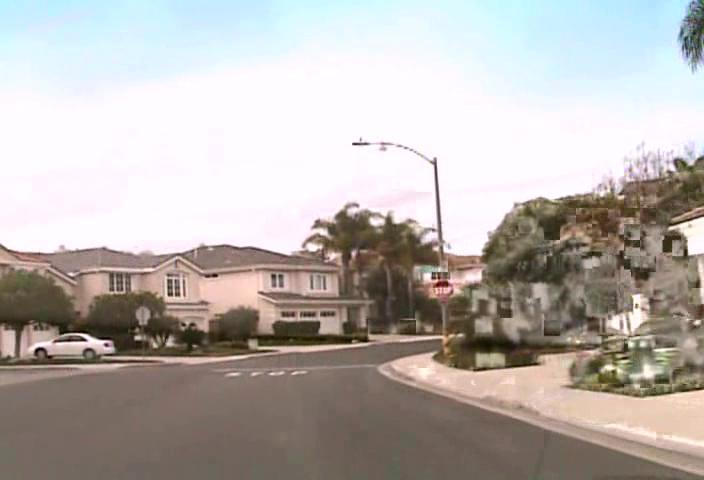stop: (432, 279, 454, 301)
